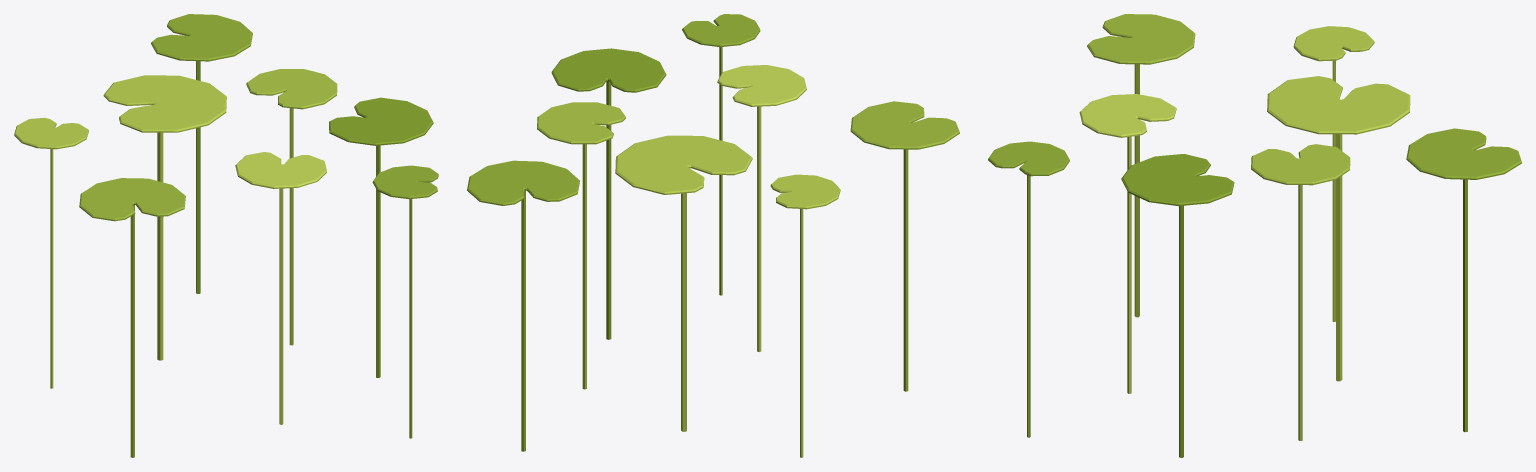
The model's file is NHP_LilyPad_LP_Cluster_A1_03.fbx.
The picture shows the model from 3 angles, left to right: view 1: azimuth 30°, elevation 25°; view 2: azimuth 150°, elevation 25°; view 3: azimuth 270°, elevation 25°; orthographic projection. The views are drawn at different scales.
Visible parts, largest first — view 1: NHP_LilyPad_LP_Cluster_A1_03_LOD0; view 2: NHP_LilyPad_LP_Cluster_A1_03_LOD0; view 3: NHP_LilyPad_LP_Cluster_A1_03_LOD0.
Part boxes in pixels (x1,y1,x2,y2): NHP_LilyPad_LP_Cluster_A1_03_LOD0: (14,14,438,457); NHP_LilyPad_LP_Cluster_A1_03_LOD0: (467,14,959,457); NHP_LilyPad_LP_Cluster_A1_03_LOD0: (988,14,1521,457).
Size of what is drawn, in the model's own units: 2.95 by 2.01 by 3.5.
